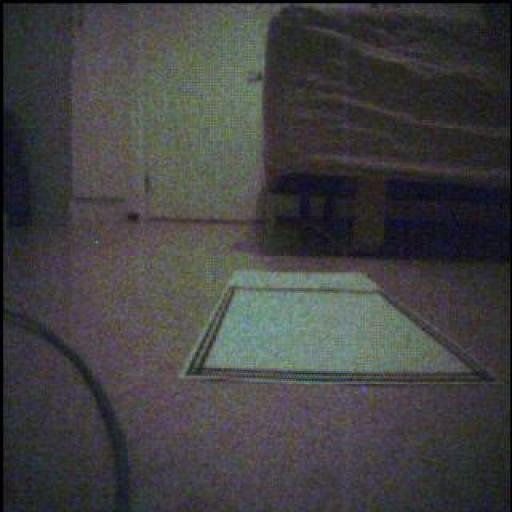pad: (184, 271, 493, 385)
